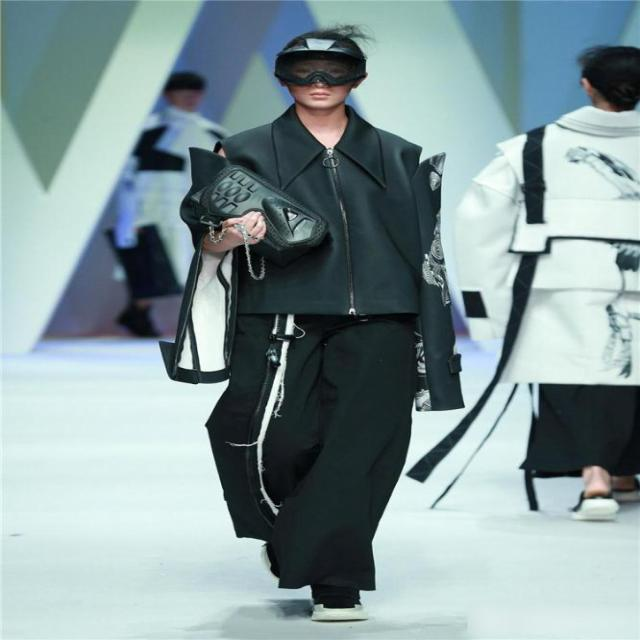Manusia: (161, 7, 475, 632)
